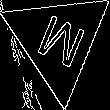M_SW: (30, 8, 87, 74)
